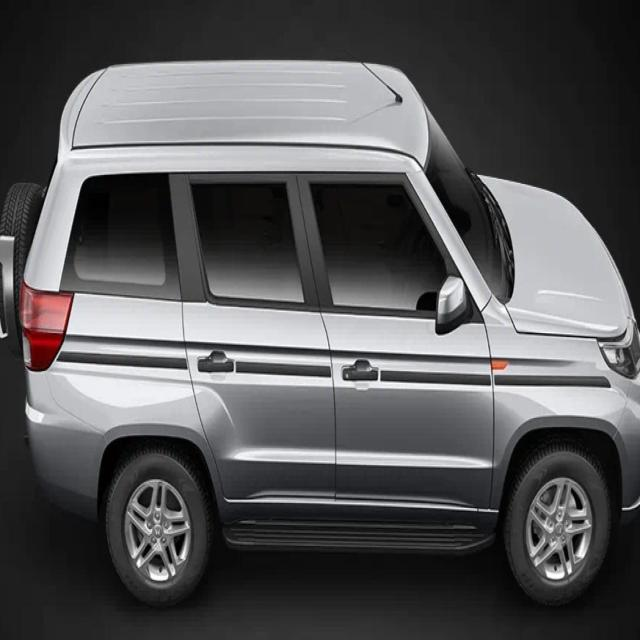light_vehicle: (2, 58, 629, 610)
